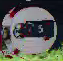Heavy Vehicles: (3, 6, 61, 57)
